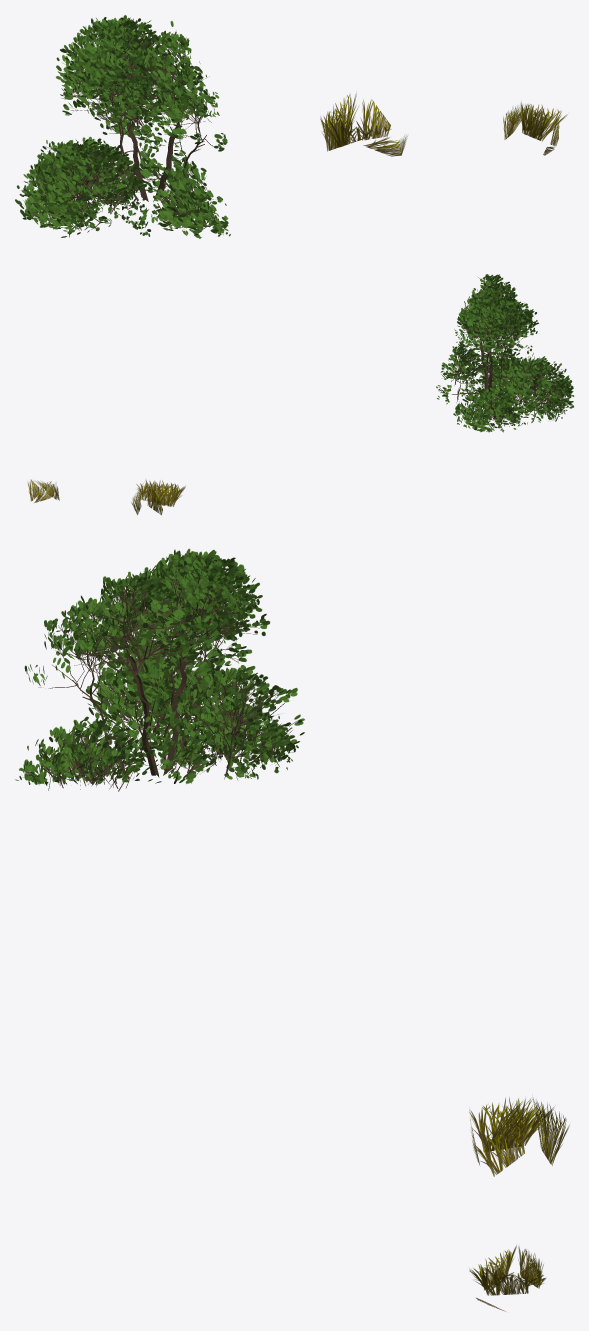
3 renders of one model, top to bottom at view 1: azimuth 30°, elevation 25°; view 2: azimuth 150°, elevation 25°; view 3: azimuth 270°, elevation 25°, orthographic. The views are drawn at different scales.
Parts seen in each view (by area): view 1: oak 01.001_trunk_Mat.001_0.243, Low Poly Stylized 2D Grass.3319; view 2: oak 01.001_trunk_Mat.001_0.243, Low Poly Stylized 2D Grass.3319; view 3: oak 01.001_trunk_Mat.001_0.243, Low Poly Stylized 2D Grass.3319.
Part boxes in pixels (<box>): oak 01.001_trunk_Mat.001_0.243: <box>15,15,230,238</box>; Low Poly Stylized 2D Grass.3319: <box>320,93,567,156</box>; oak 01.001_trunk_Mat.001_0.243: <box>436,274,574,432</box>; Low Poly Stylized 2D Grass.3319: <box>28,479,185,515</box>; oak 01.001_trunk_Mat.001_0.243: <box>15,548,304,791</box>; Low Poly Stylized 2D Grass.3319: <box>469,1097,569,1311</box>.
Size of the model in its own units: 14.49 by 7.23 by 8.44.
3 materials, 2 textured.
